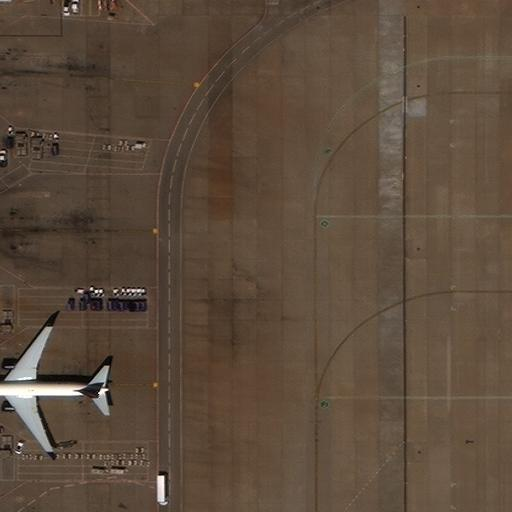Large Civil Transport: (0, 322, 111, 453)
